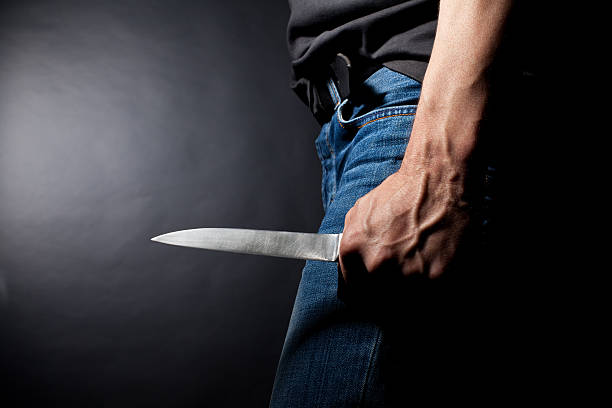knife: (146, 226, 342, 264)
